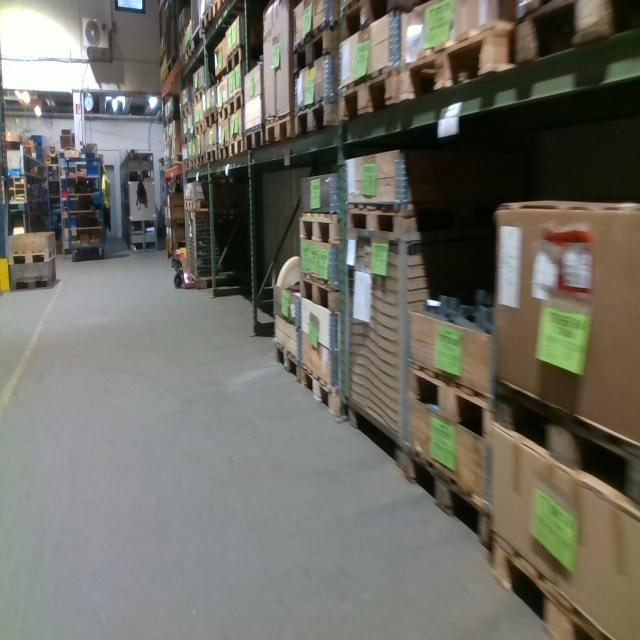pallet: (490, 366, 638, 514), (492, 533, 640, 635), (402, 15, 529, 114), (400, 438, 493, 546), (406, 354, 514, 437), (510, 2, 639, 68), (338, 60, 402, 132), (345, 203, 465, 235), (339, 2, 413, 38), (294, 22, 343, 74), (300, 363, 346, 418), (297, 209, 348, 251), (296, 97, 341, 143), (299, 267, 350, 306), (265, 115, 297, 155), (226, 42, 262, 77), (274, 338, 303, 381), (6, 244, 57, 268), (7, 268, 59, 289), (245, 127, 265, 157), (200, 3, 214, 43), (228, 89, 248, 114), (181, 198, 212, 213), (229, 138, 246, 161), (210, 0, 234, 16), (194, 88, 212, 105), (218, 141, 231, 164), (205, 105, 218, 127), (217, 103, 228, 128), (206, 147, 219, 166), (217, 63, 228, 85), (193, 118, 206, 135), (181, 103, 193, 118), (172, 153, 184, 168), (186, 42, 194, 62), (180, 52, 186, 78), (198, 152, 205, 170), (183, 161, 190, 176), (192, 154, 198, 171), (183, 135, 190, 145)
pallet_truck: (164, 171, 196, 293)
stillage: (339, 226, 472, 477), (187, 200, 247, 295), (185, 2, 209, 59), (182, 201, 189, 285)
